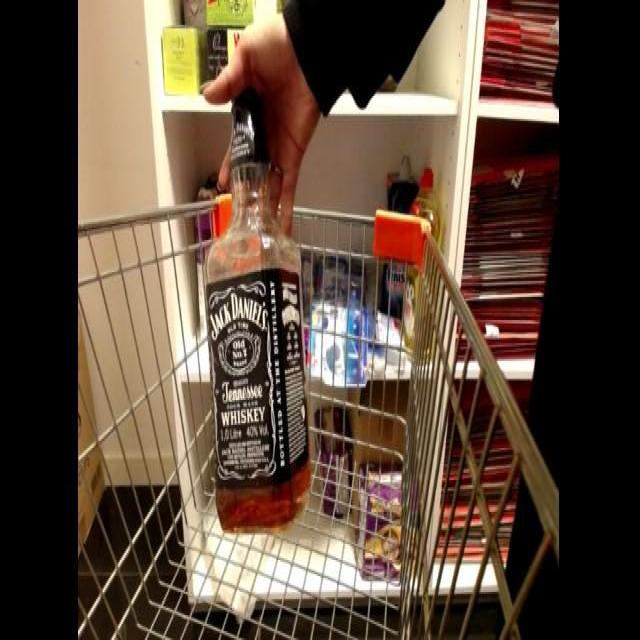Jack Daniels: (195, 72, 324, 543)
